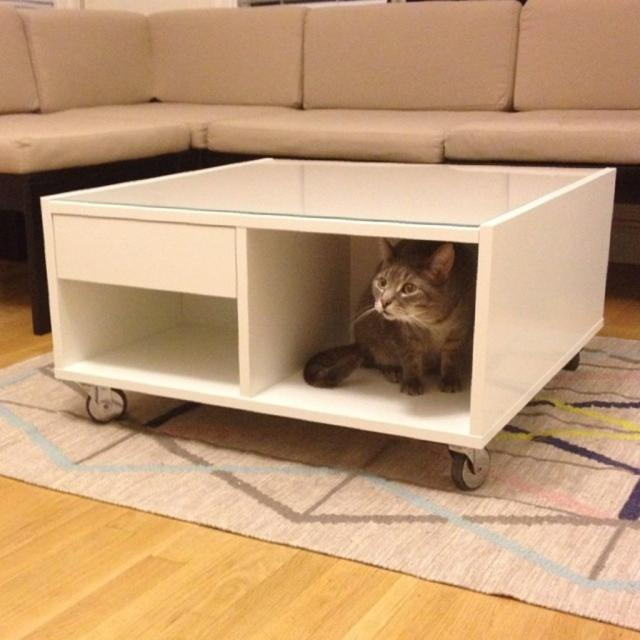Cat: (302, 240, 467, 396)
